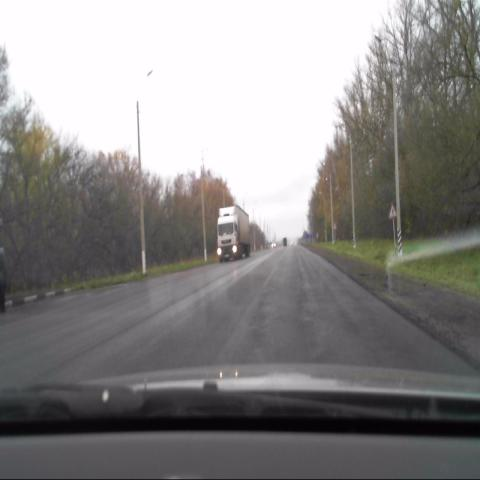1_22: (388, 204, 398, 220)
